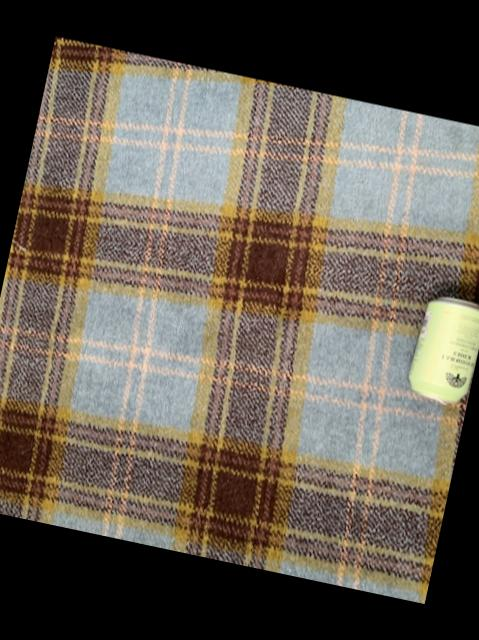metal: (406, 295, 479, 401)
